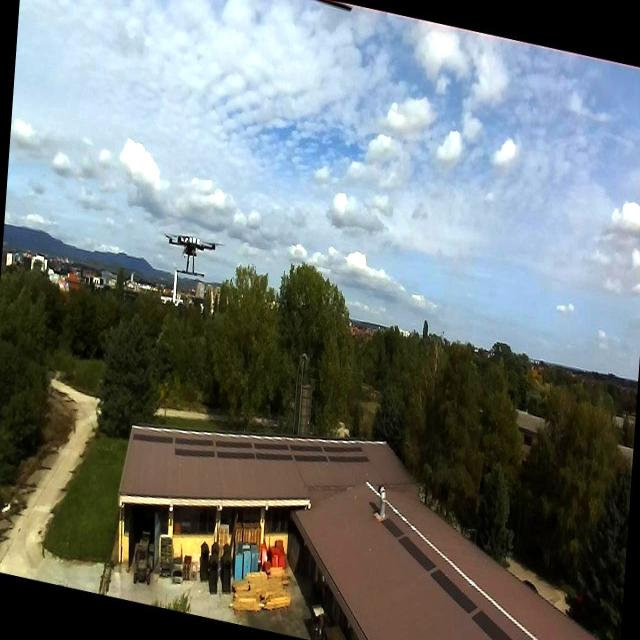drone: (165, 223, 218, 283)
